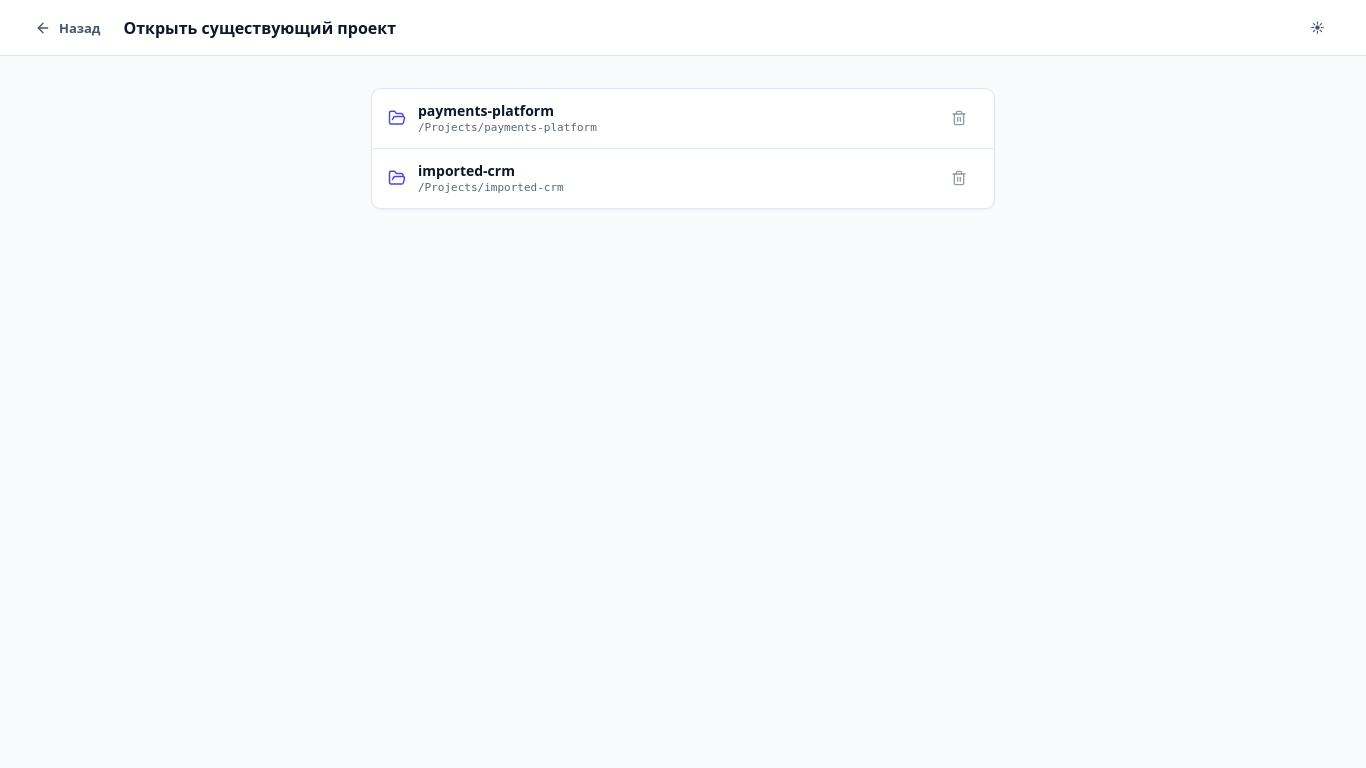
it: OpenExisting — удаление с подтверждением вводом имени (§2.4-1/-4, todo_17 T2) › cancel closes the dialog and deletes nothing
The image size is (1366, 768).
Expected: the list with test id "open-list" is shown, [371, 88, 995, 209]
Step 1. Click the button with test id "project-delete-payments-platform" → [959, 118], box [940, 103, 978, 133]
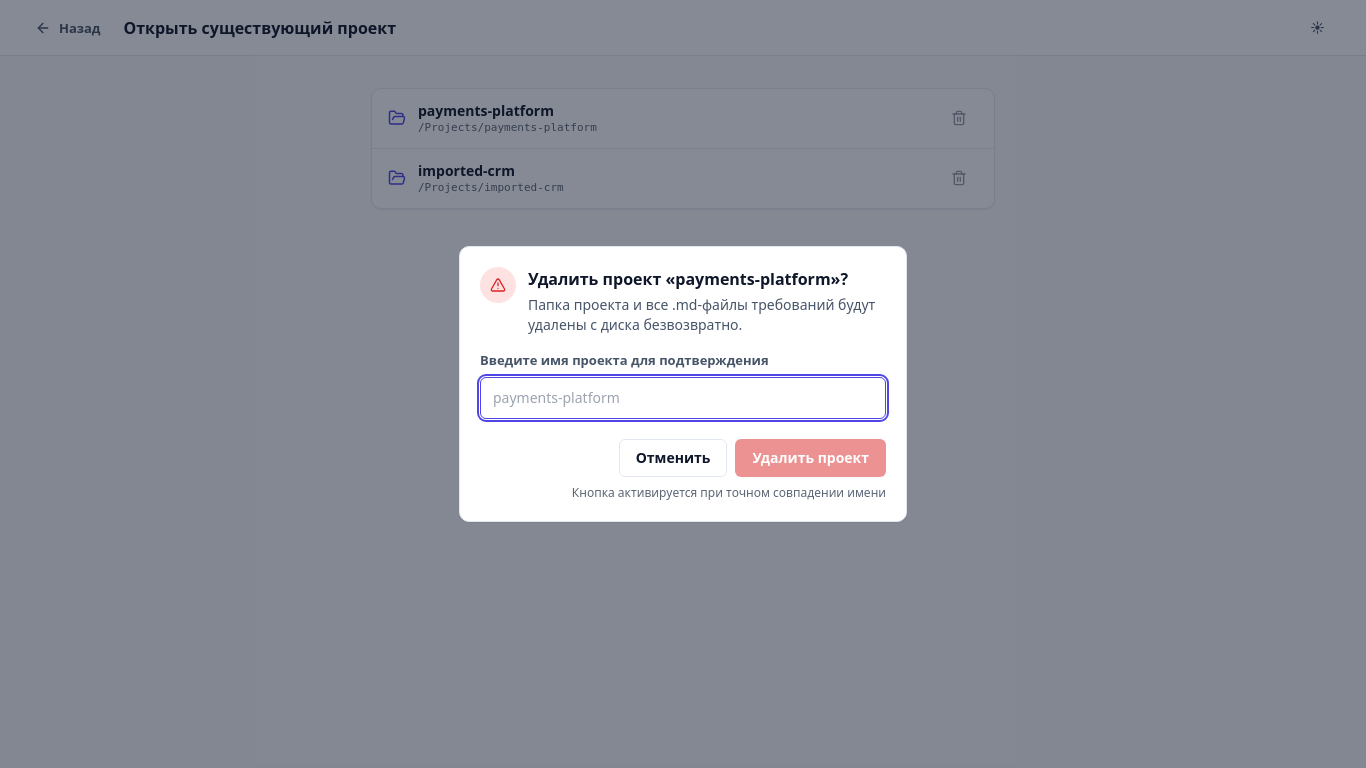
Result: the dialog with test id "project-delete-dialog" is shown at [459, 246, 907, 522]
Step 2. Click the button with test id "project-delete-dialog-cancel" → [673, 458], box [619, 439, 727, 477]
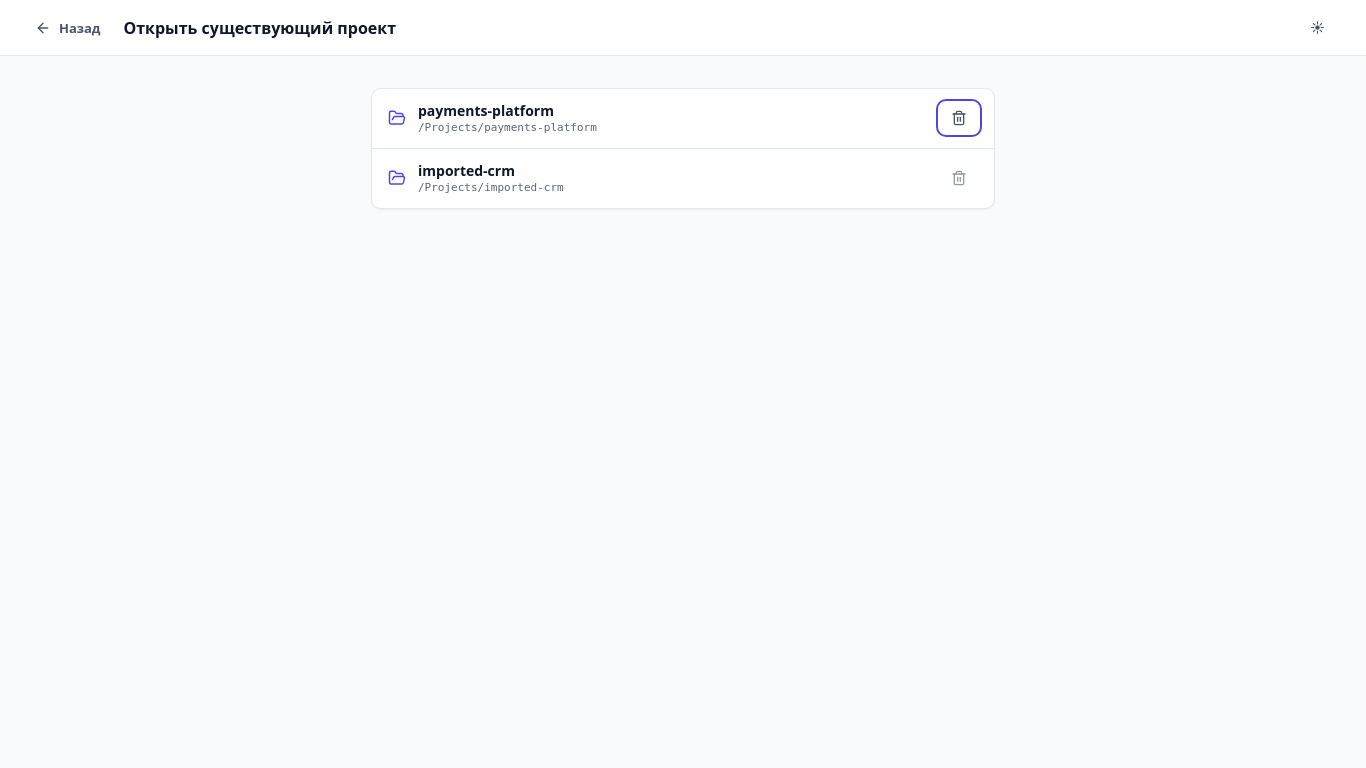
Expected: the link with test id "open-project-payments-platform" is shown, [418, 101, 597, 134]
Result: the dialog with test id "project-delete-dialog" is gone
